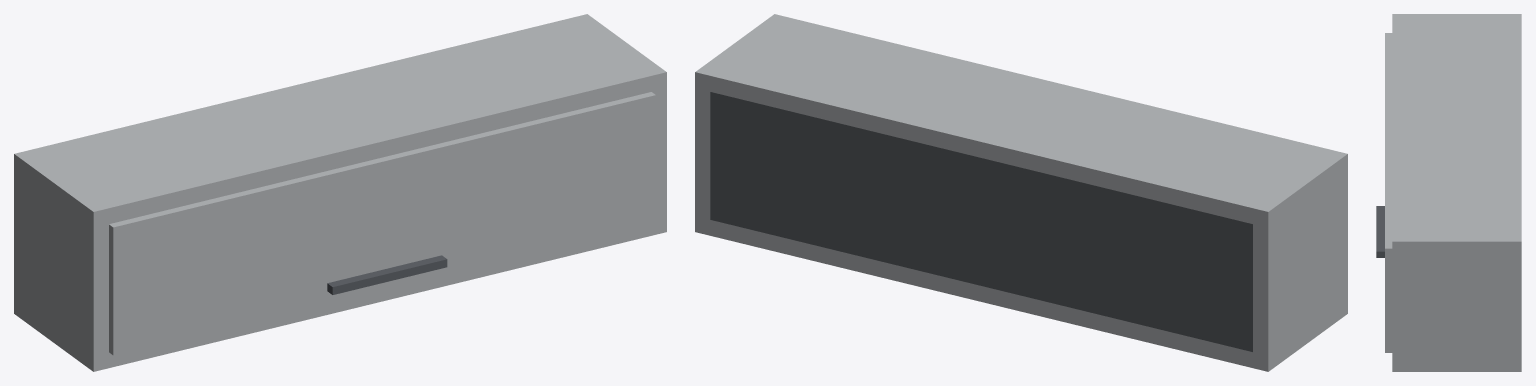
Rendered from GO_Cubicle_OverheadBin_01.glb.
3 views of the same model, side by side, from view 1: azimuth 30°, elevation 25°; view 2: azimuth 150°, elevation 25°; view 3: azimuth 270°, elevation 25° (orthographic). The views are drawn at different scales.
Parts seen in each view (by area): view 1: GO_Cubicle_OverheadBin_01, Door; view 2: GO_Cubicle_OverheadBin_01; view 3: GO_Cubicle_OverheadBin_01, Door.
Part boxes in pixels (left/top/right/bottom): GO_Cubicle_OverheadBin_01: left=14, top=14, right=666, bottom=371; Door: left=109, top=92, right=655, bottom=355; GO_Cubicle_OverheadBin_01: left=695, top=14, right=1347, bottom=371; GO_Cubicle_OverheadBin_01: left=1392, top=14, right=1521, bottom=371; Door: left=1376, top=33, right=1392, bottom=352.
Bounding box in the file's own units: 1.5 × 0.4 × 0.4045.
1 material, 1 textured.
